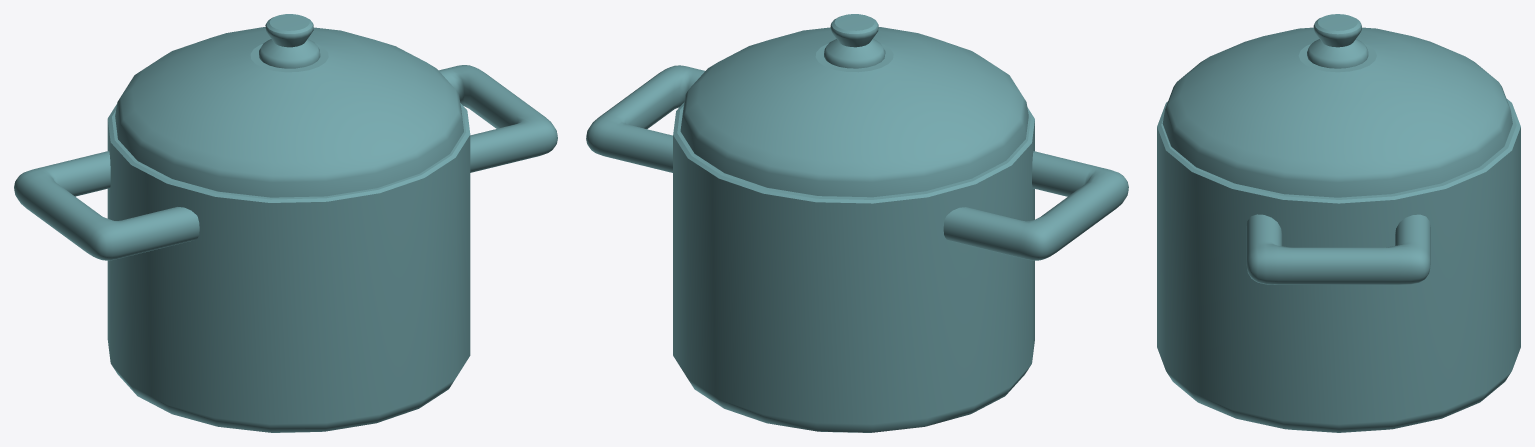
The model's file is SM_POT_M.fbx.
3 views of the same model, side by side, from view 1: azimuth 30°, elevation 25°; view 2: azimuth 150°, elevation 25°; view 3: azimuth 270°, elevation 25° (orthographic).
Visible parts, largest first — view 1: SM_POT_M, SM_POT_TAP_M; view 2: SM_POT_M, SM_POT_TAP_M; view 3: SM_POT_M, SM_POT_TAP_M.
Part boxes in pixels (box(x1,y1,x2,y2)): SM_POT_M: box(14, 65, 557, 432); SM_POT_TAP_M: box(115, 14, 463, 197); SM_POT_M: box(586, 65, 1128, 432); SM_POT_TAP_M: box(680, 14, 1028, 197); SM_POT_M: box(1157, 98, 1520, 432); SM_POT_TAP_M: box(1162, 14, 1512, 197).
Size of the model in its own units: 45.07 by 32.29 by 30.55.
